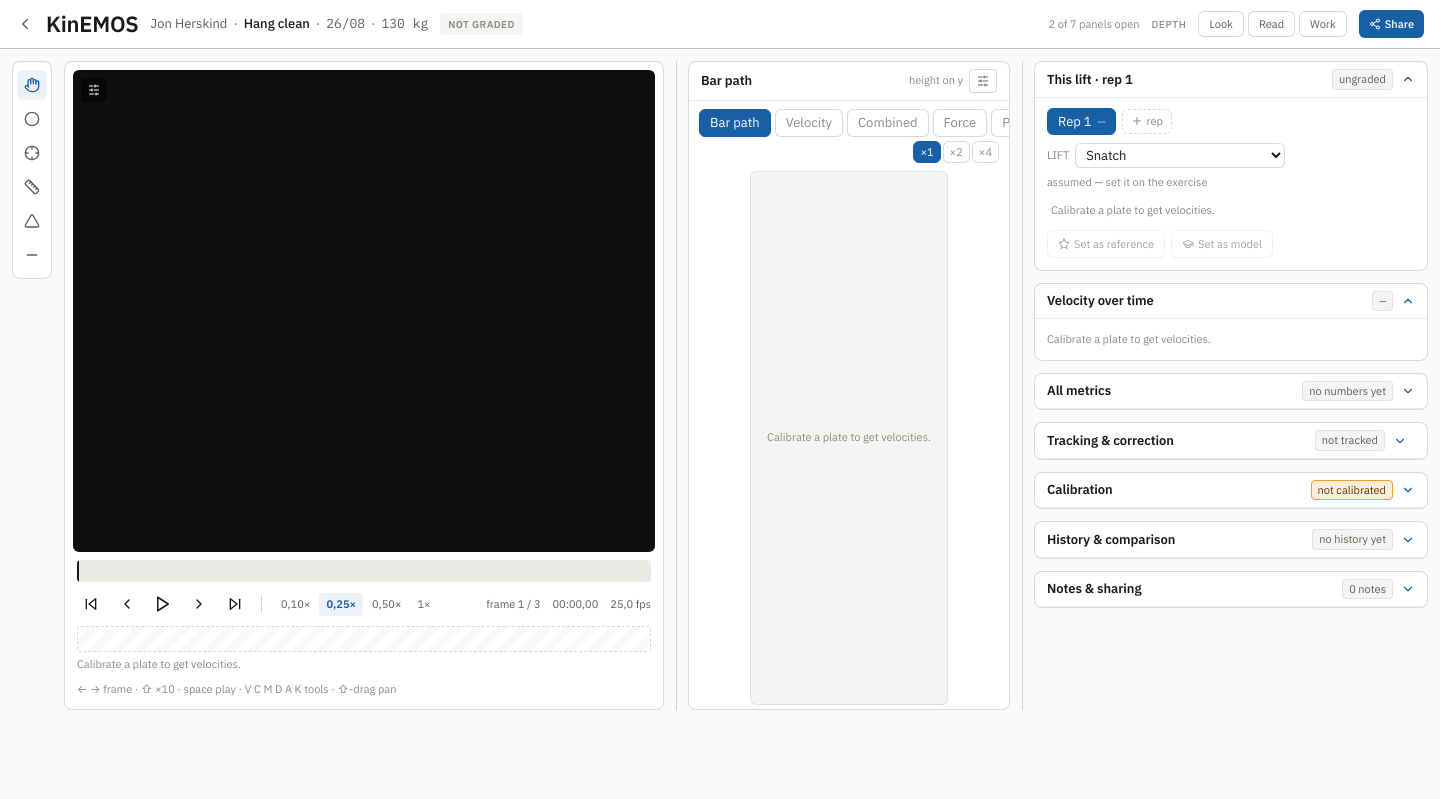
Test: KinemosViewer › a depth opens every panel at once; a hand toggle makes the layout the coach’s own
The image size is (1440, 799).
Expected: the text "Hang clean" is shown, [244,14,310,34]
Click the radio button labelled "Work". click: (1323,24)
box: [1299,11,1347,37]
(page scrolled)
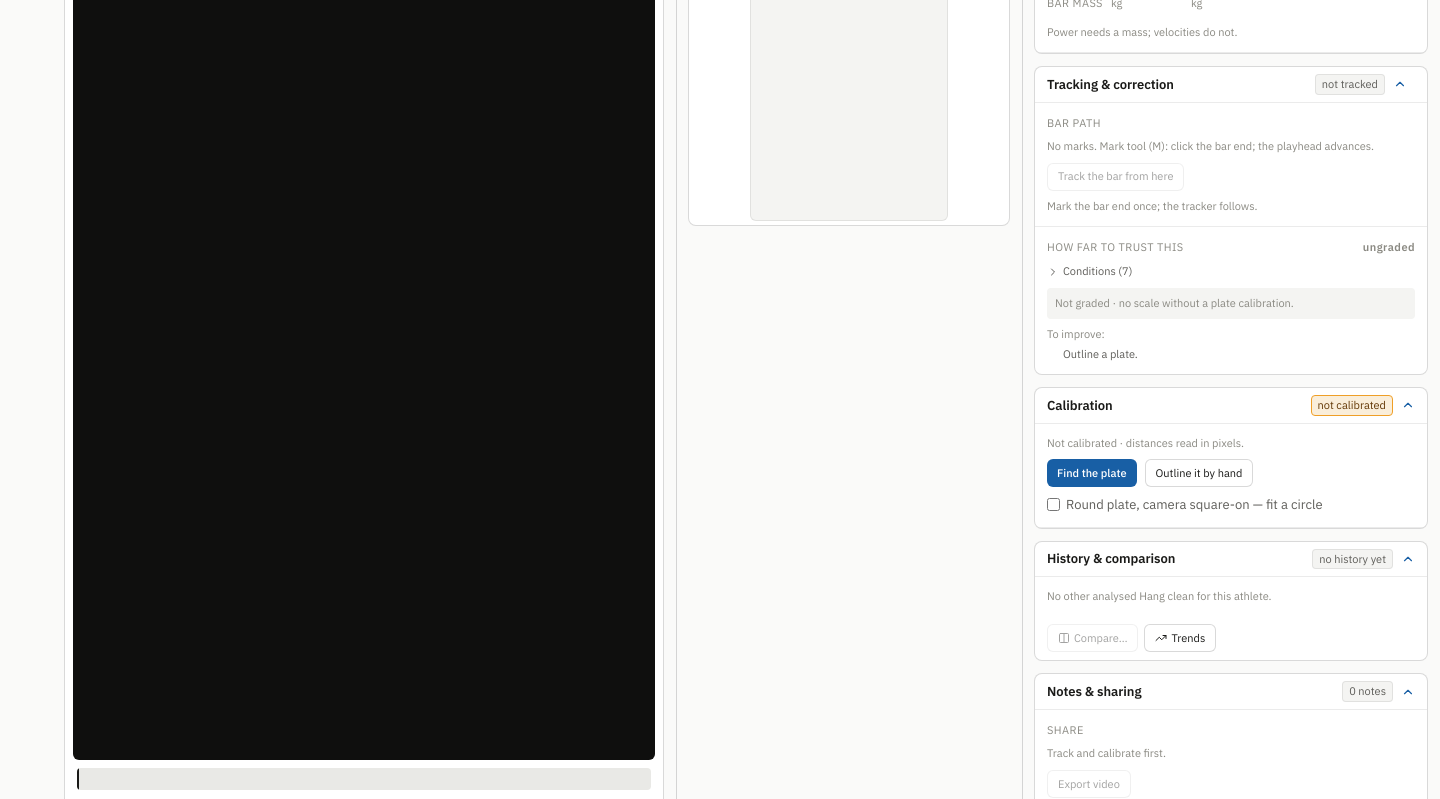
Click the button "Calibration not calibrated". click: (1080,405)
box: [1035,388,1427,423]
(page scrolled)
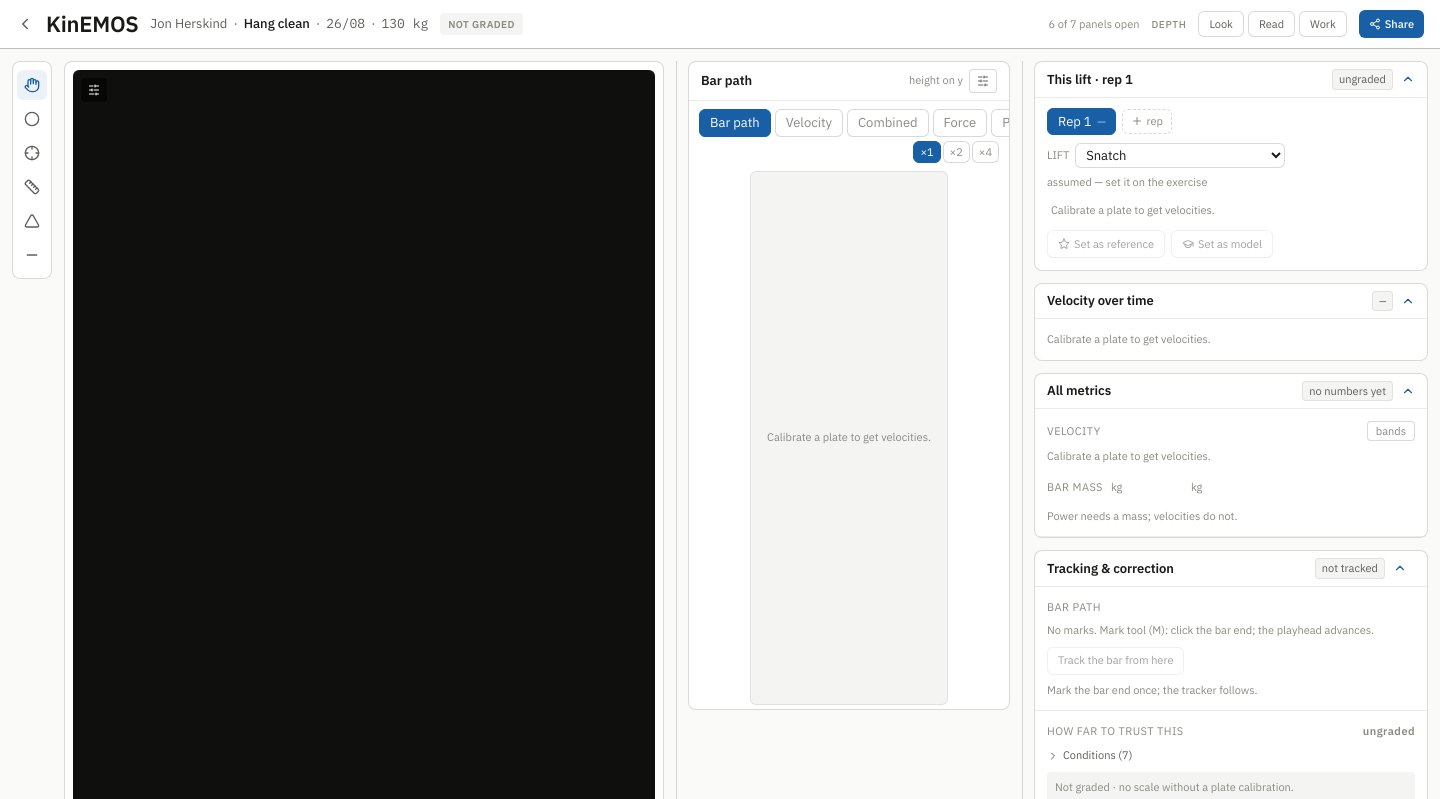
Now the text "6 of 7 panels open" is shown, box [1048,16,1140,32]
